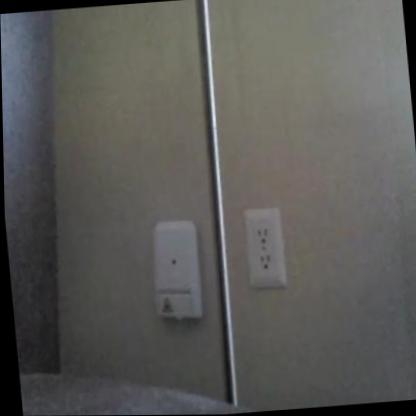OUTLET: (242, 207, 288, 289)
